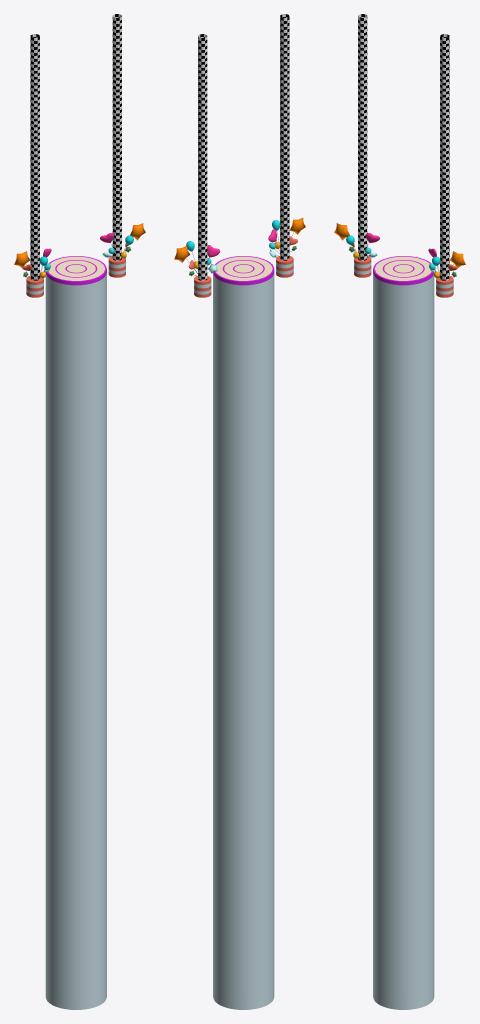
File: Victory_gate_model.FBX
The picture shows the model from 3 angles, left to right: view 1: azimuth 30°, elevation 25°; view 2: azimuth 210°, elevation 25°; view 3: azimuth 330°, elevation 25°; orthographic projection.
Parts seen in each view (by area): view 1: Victory_Platform_3_model, Victory_Gate_2, Victory_Gate_1; view 2: Victory_Platform_3_model, Victory_Gate_2, Victory_Gate_1; view 3: Victory_Platform_3_model, Victory_Gate_2, Victory_Gate_1.
Boxes of the visible parts, x1,y1,x2,y2 form: Victory_Platform_3_model: [45, 256, 106, 1009]; Victory_Gate_2: [30, 14, 121, 280]; Victory_Gate_1: [14, 223, 145, 297]; Victory_Platform_3_model: [213, 256, 274, 1009]; Victory_Gate_2: [198, 14, 289, 280]; Victory_Gate_1: [174, 218, 305, 297]; Victory_Platform_3_model: [373, 256, 434, 1009]; Victory_Gate_2: [358, 14, 449, 280]; Victory_Gate_1: [334, 223, 465, 297].
Size of the model in its own units: 56.87 by 400 by 22.84.
